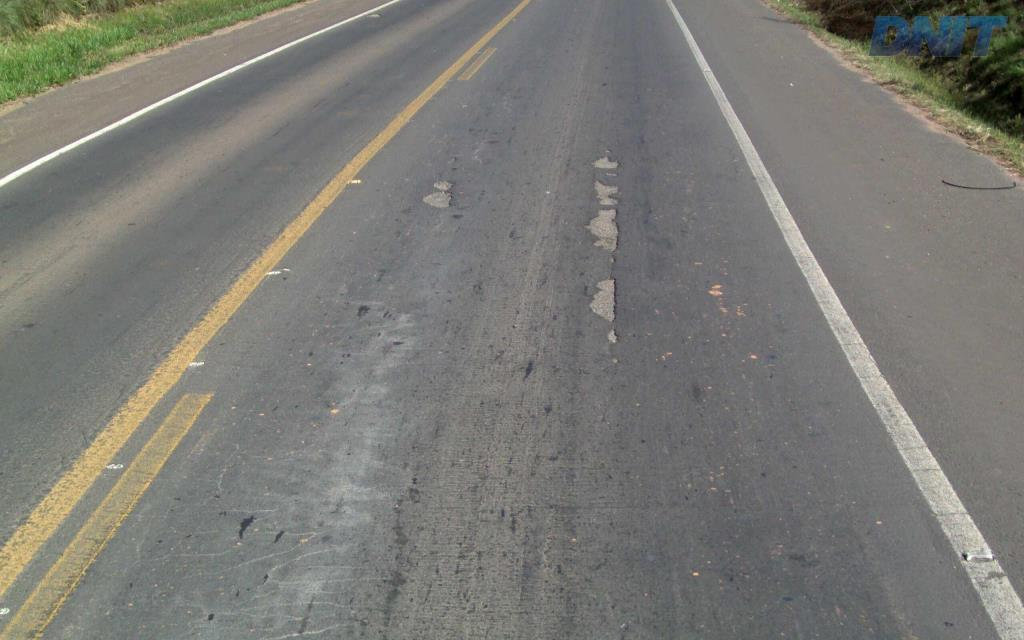pothole: (582, 208, 627, 255), (584, 273, 622, 323), (416, 177, 456, 211), (589, 176, 625, 205), (592, 153, 624, 169), (601, 326, 619, 344)
